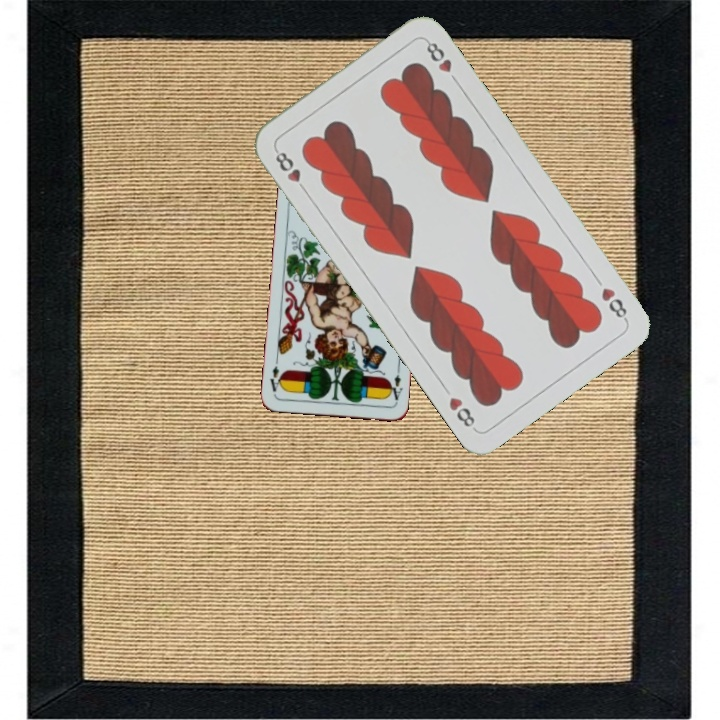EA: (385, 365, 405, 405)
H8: (271, 145, 311, 196), (597, 283, 631, 324)
